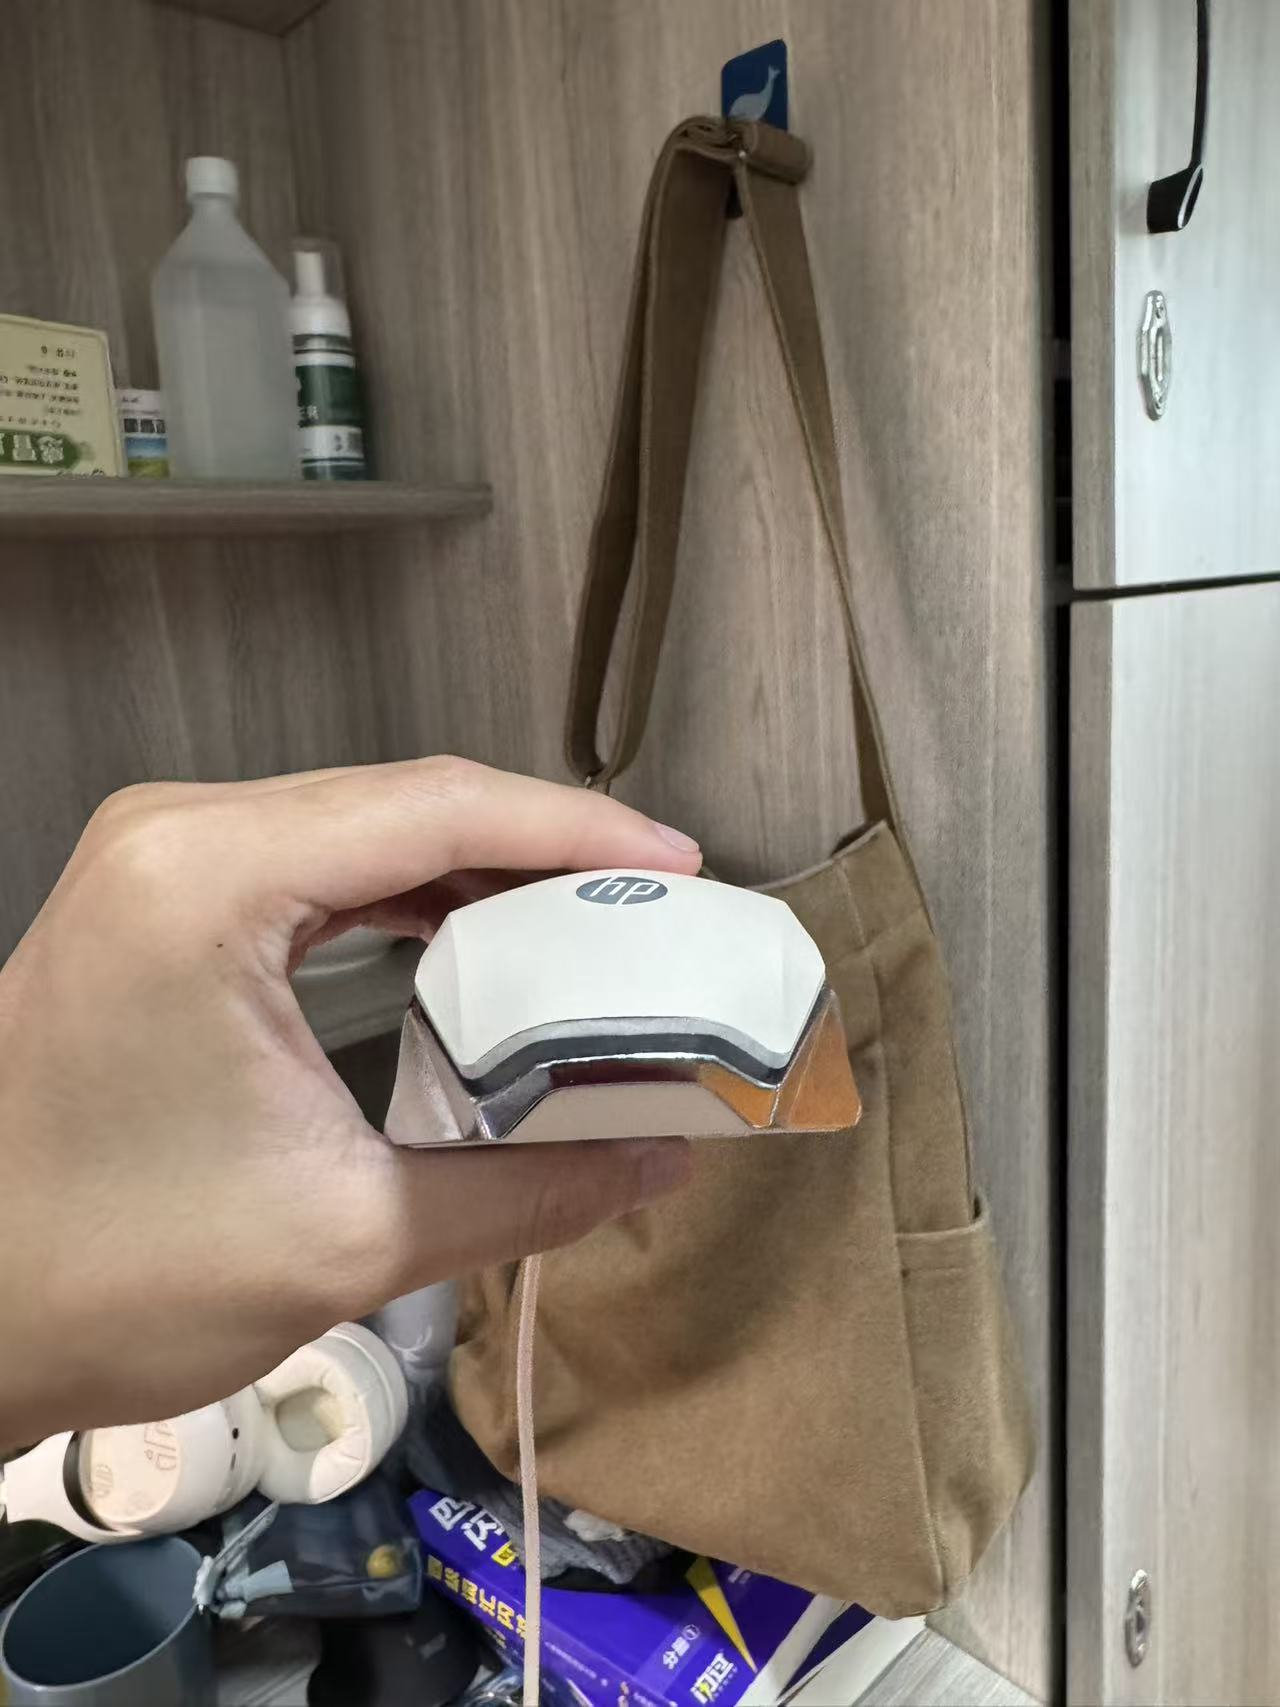mouse: (351, 843, 893, 1173)
